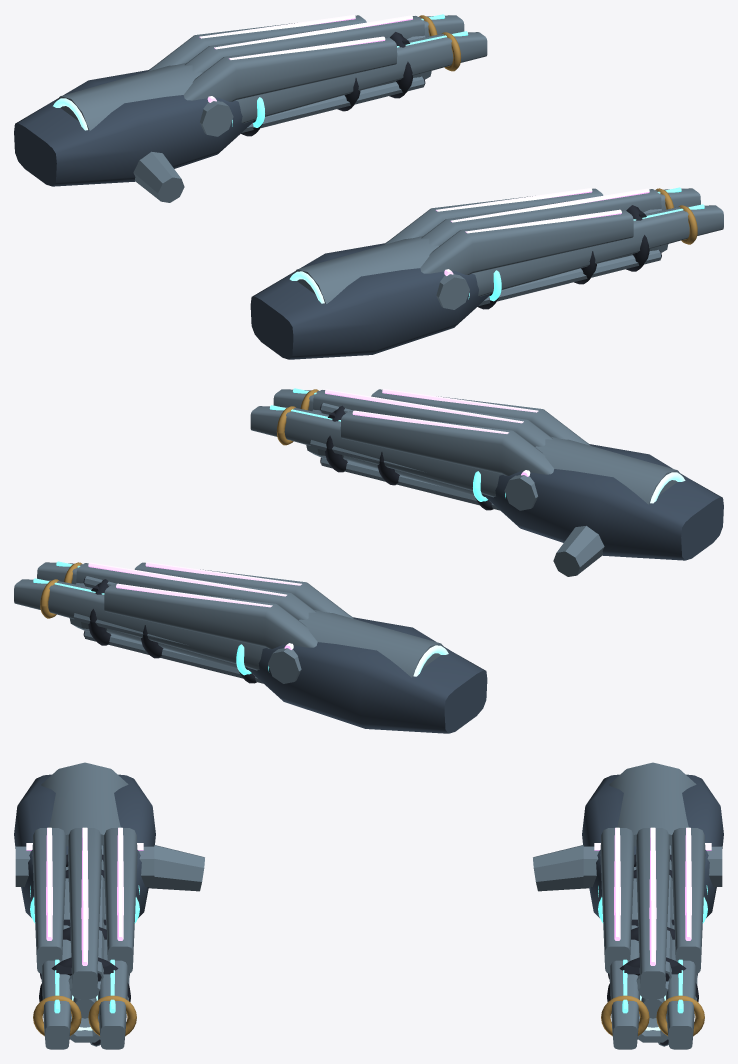
Rendered from mount.glb.
3 views of the same model, one above another, from view 1: azimuth 30°, elevation 25°; view 2: azimuth 150°, elevation 25°; view 3: azimuth 270°, elevation 25° (orthographic). The views are drawn at different scales.
Parts seen in each view (by area): view 1: m_heavy Fitting gunmetal, m_array Brushed fitting edges, m_siege Brushed fitting edges, m_rotary Brushed fitting edges, m_array m_array emitter, m_heavy Brushed fitting edges, m_rotary Machined graphite, m_siege m_siege emitter, m_siege Champagne gold edging, m_rotary m_rotary emitter; view 2: m_heavy Fitting gunmetal, m_array Brushed fitting edges, m_siege Brushed fitting edges, m_rotary Brushed fitting edges, m_array m_array emitter, m_heavy Brushed fitting edges, m_rotary Machined graphite, m_siege m_siege emitter, m_siege Champagne gold edging, m_rotary m_rotary emitter; view 3: m_array Brushed fitting edges, m_rotary Brushed fitting edges, m_heavy Fitting gunmetal, m_siege Brushed fitting edges, m_heavy Brushed fitting edges, m_array m_array emitter, m_siege Champagne gold edging, m_siege m_siege emitter, m_rotary Machined graphite, m_siege Machined graphite.
Boxes of the visible parts, x1,y1,x2,y2 form: m_heavy Fitting gunmetal: (14,70,489,359); m_array Brushed fitting edges: (147,15,661,309); m_siege Brushed fitting edges: (236,15,723,296); m_rotary Brushed fitting edges: (53,62,661,305); m_array m_array emitter: (199,15,649,275); m_heavy Brushed fitting edges: (133,35,668,260); m_rotary Machined graphite: (337,32,661,284); m_siege m_siege emitter: (232,14,704,301); m_siege Champagne gold edging: (419,15,697,244); m_rotary m_rotary emitter: (53,98,324,303); m_heavy Fitting gunmetal: (248,444,723,733); m_array Brushed fitting edges: (76,389,590,683); m_siege Brushed fitting edges: (14,389,502,670); m_rotary Brushed fitting edges: (73,403,684,683); m_array m_array emitter: (88,389,538,649); m_heavy Brushed fitting edges: (69,409,604,668); m_rotary Machined graphite: (73,404,399,658); m_siege m_siege emitter: (33,388,505,675); m_siege Champagne gold edging: (40,389,318,618); m_rotary m_rotary emitter: (413,472,685,676); m_array Brushed fitting edges: (15,828,722,998); m_rotary Brushed fitting edges: (41,762,697,1046); m_heavy Fitting gunmetal: (14,774,723,917); m_siege Brushed fitting edges: (41,867,696,1049); m_heavy Brushed fitting edges: (67,845,668,1042); m_array m_array emitter: (26,827,711,965); m_siege Champagne gold edging: (33,995,704,1035); m_siege m_siege emitter: (30,885,707,1013); m_rotary Machined graphite: (39,927,698,1045); m_siege Machined graphite: (56,919,681,975).
Bounding box in the file's own units: 17 × 3.72 × 20.
